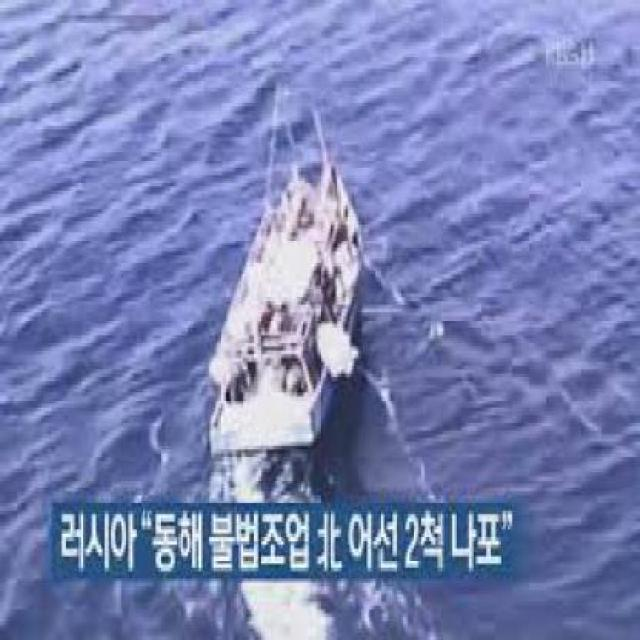fish-b: (193, 80, 384, 493)
